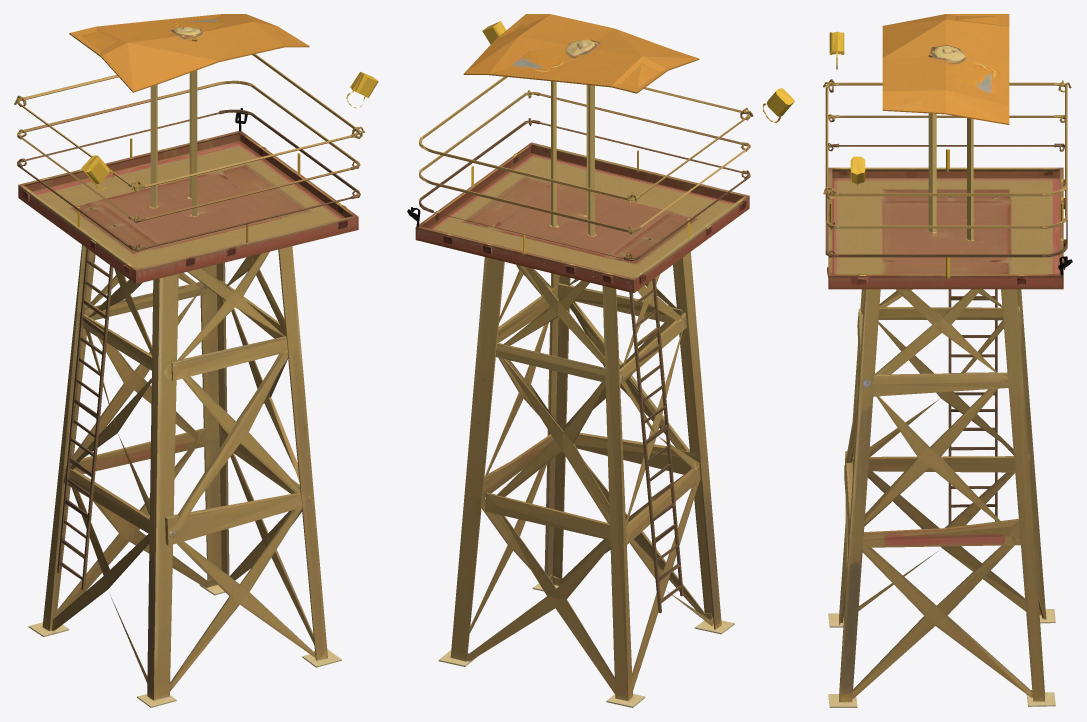
Rendered from guard_tower.glb.
3 renders of one model, left to right at view 1: azimuth 30°, elevation 25°; view 2: azimuth 150°, elevation 25°; view 3: azimuth 270°, elevation 25°, orthographic.
Parts seen in each view (by area): view 1: tripo_node_b34c2a3f-5cc9-4876-84db-5551e2f6262b; view 2: tripo_node_b34c2a3f-5cc9-4876-84db-5551e2f6262b; view 3: tripo_node_b34c2a3f-5cc9-4876-84db-5551e2f6262b.
Part boxes in pixels (bbox=[...]): tripo_node_b34c2a3f-5cc9-4876-84db-5551e2f6262b: bbox=[14, 14, 378, 707]; tripo_node_b34c2a3f-5cc9-4876-84db-5551e2f6262b: bbox=[407, 14, 794, 707]; tripo_node_b34c2a3f-5cc9-4876-84db-5551e2f6262b: bbox=[823, 14, 1072, 707].
Size of the model in its own units: 0.5176 by 0.998 by 0.3691.
1 material, 1 textured.
